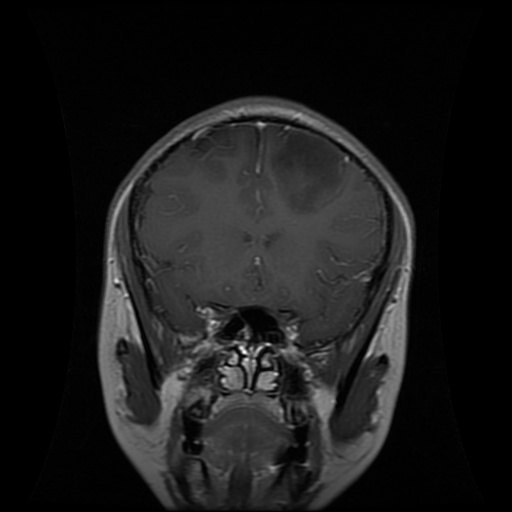glioma: (267, 126, 347, 214)
